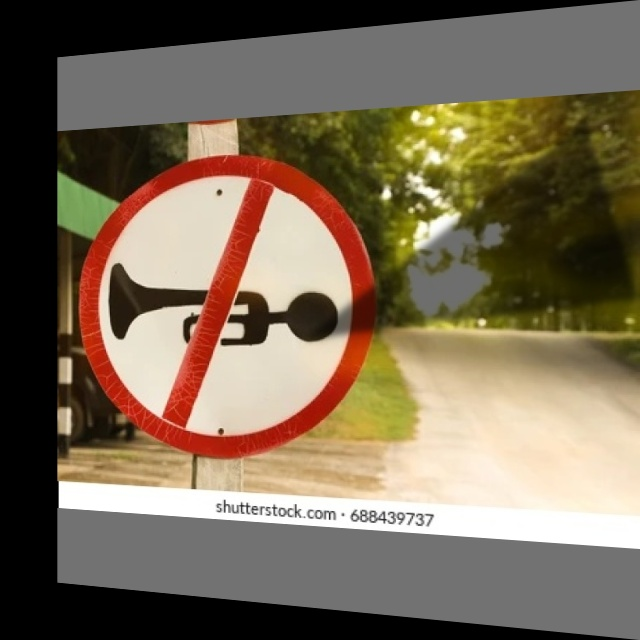Horn_Prohibited: (91, 162, 364, 446)
